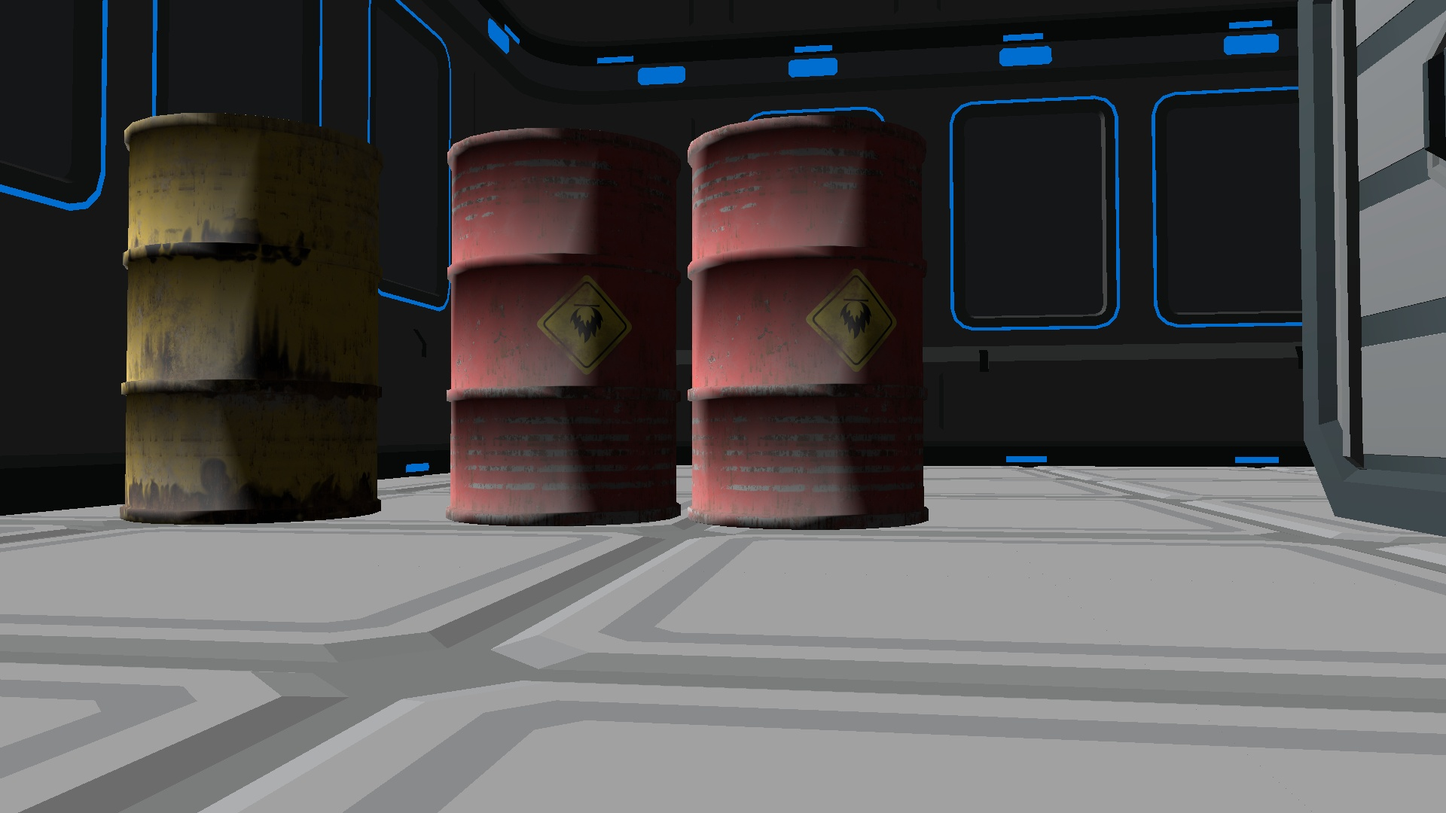toxic barrel: (119, 114, 382, 526), (687, 115, 929, 530), (447, 128, 682, 527)
